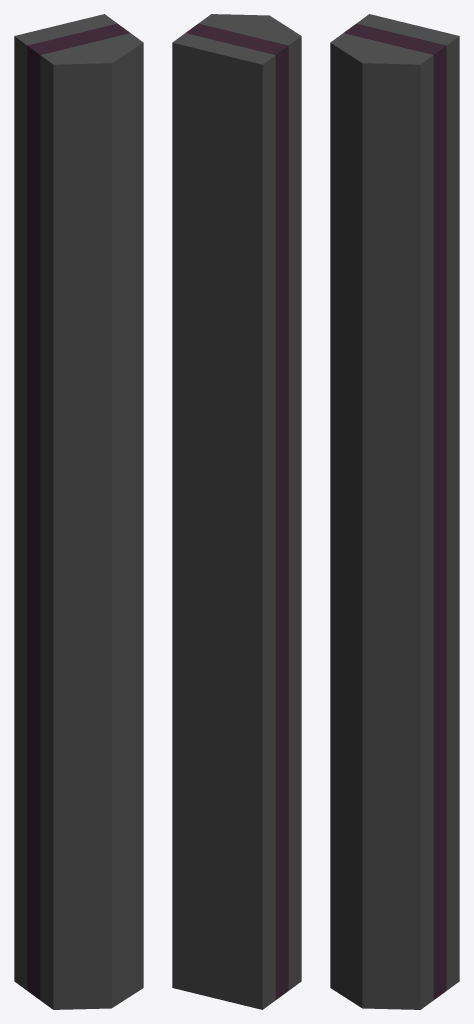
File: Pillar.fbx
3 views of the same model, side by side, from view 1: azimuth 30°, elevation 25°; view 2: azimuth 150°, elevation 25°; view 3: azimuth 330°, elevation 25° (orthographic).
Parts seen in each view (by area): view 1: Pillar; view 2: Pillar; view 3: Pillar.
Boxes of the visible parts, x1=… form: Pillar: x1=14, y1=14, x2=143, y2=1009; Pillar: x1=172, y1=14, x2=301, y2=1009; Pillar: x1=330, y1=14, x2=459, y2=1009.
Bounding box in the file's own units: 200 × 2000 × 200.
